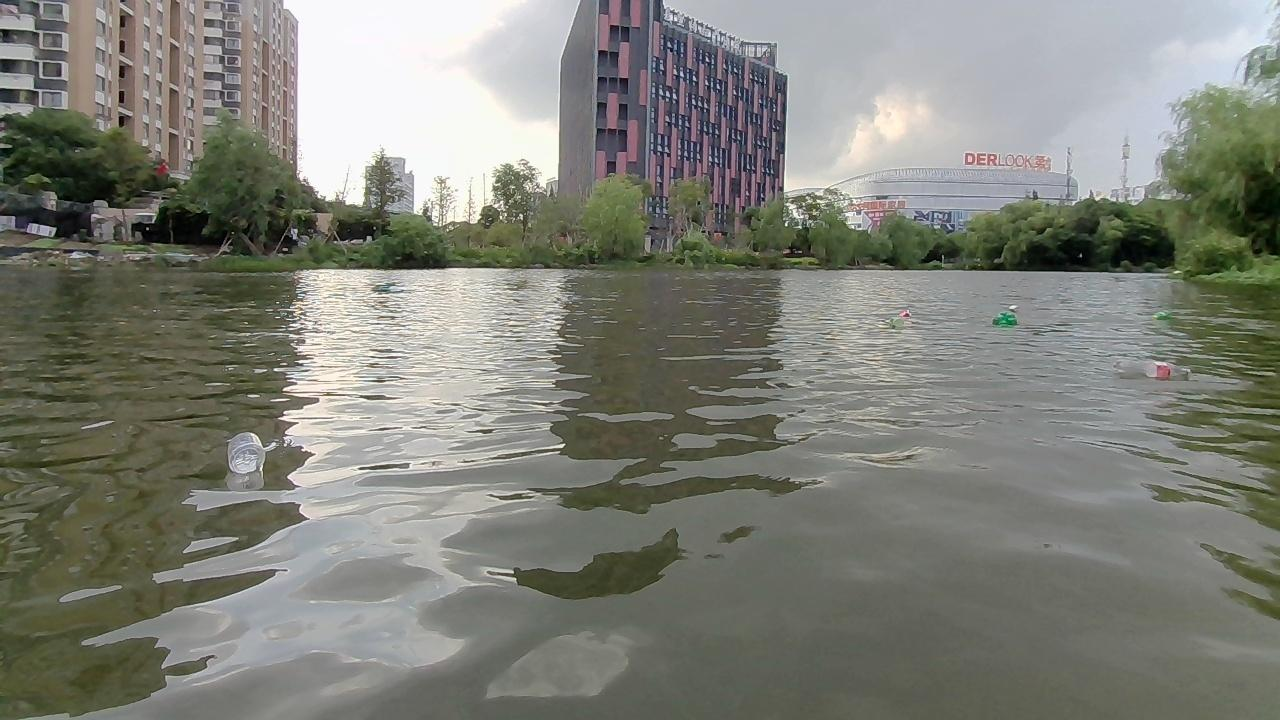bottle: (1115, 355, 1198, 383), (222, 432, 261, 477), (991, 311, 1018, 325), (1151, 307, 1171, 323), (897, 308, 914, 316), (888, 316, 898, 326)
